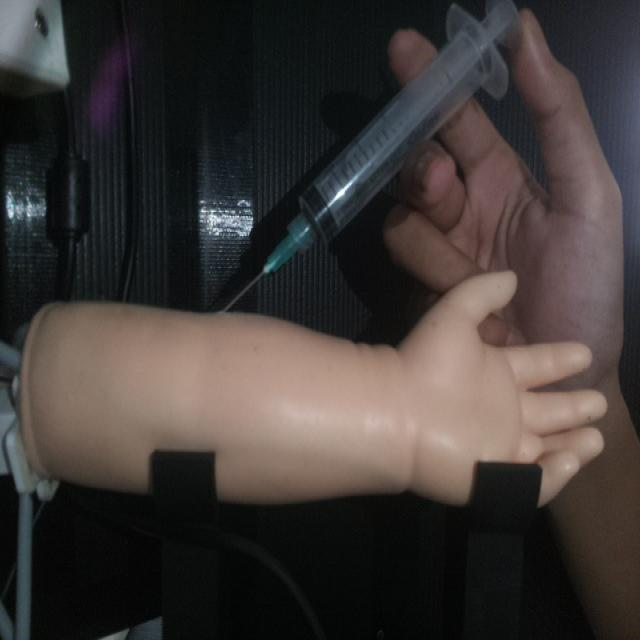Outside: (213, 0, 526, 315)
